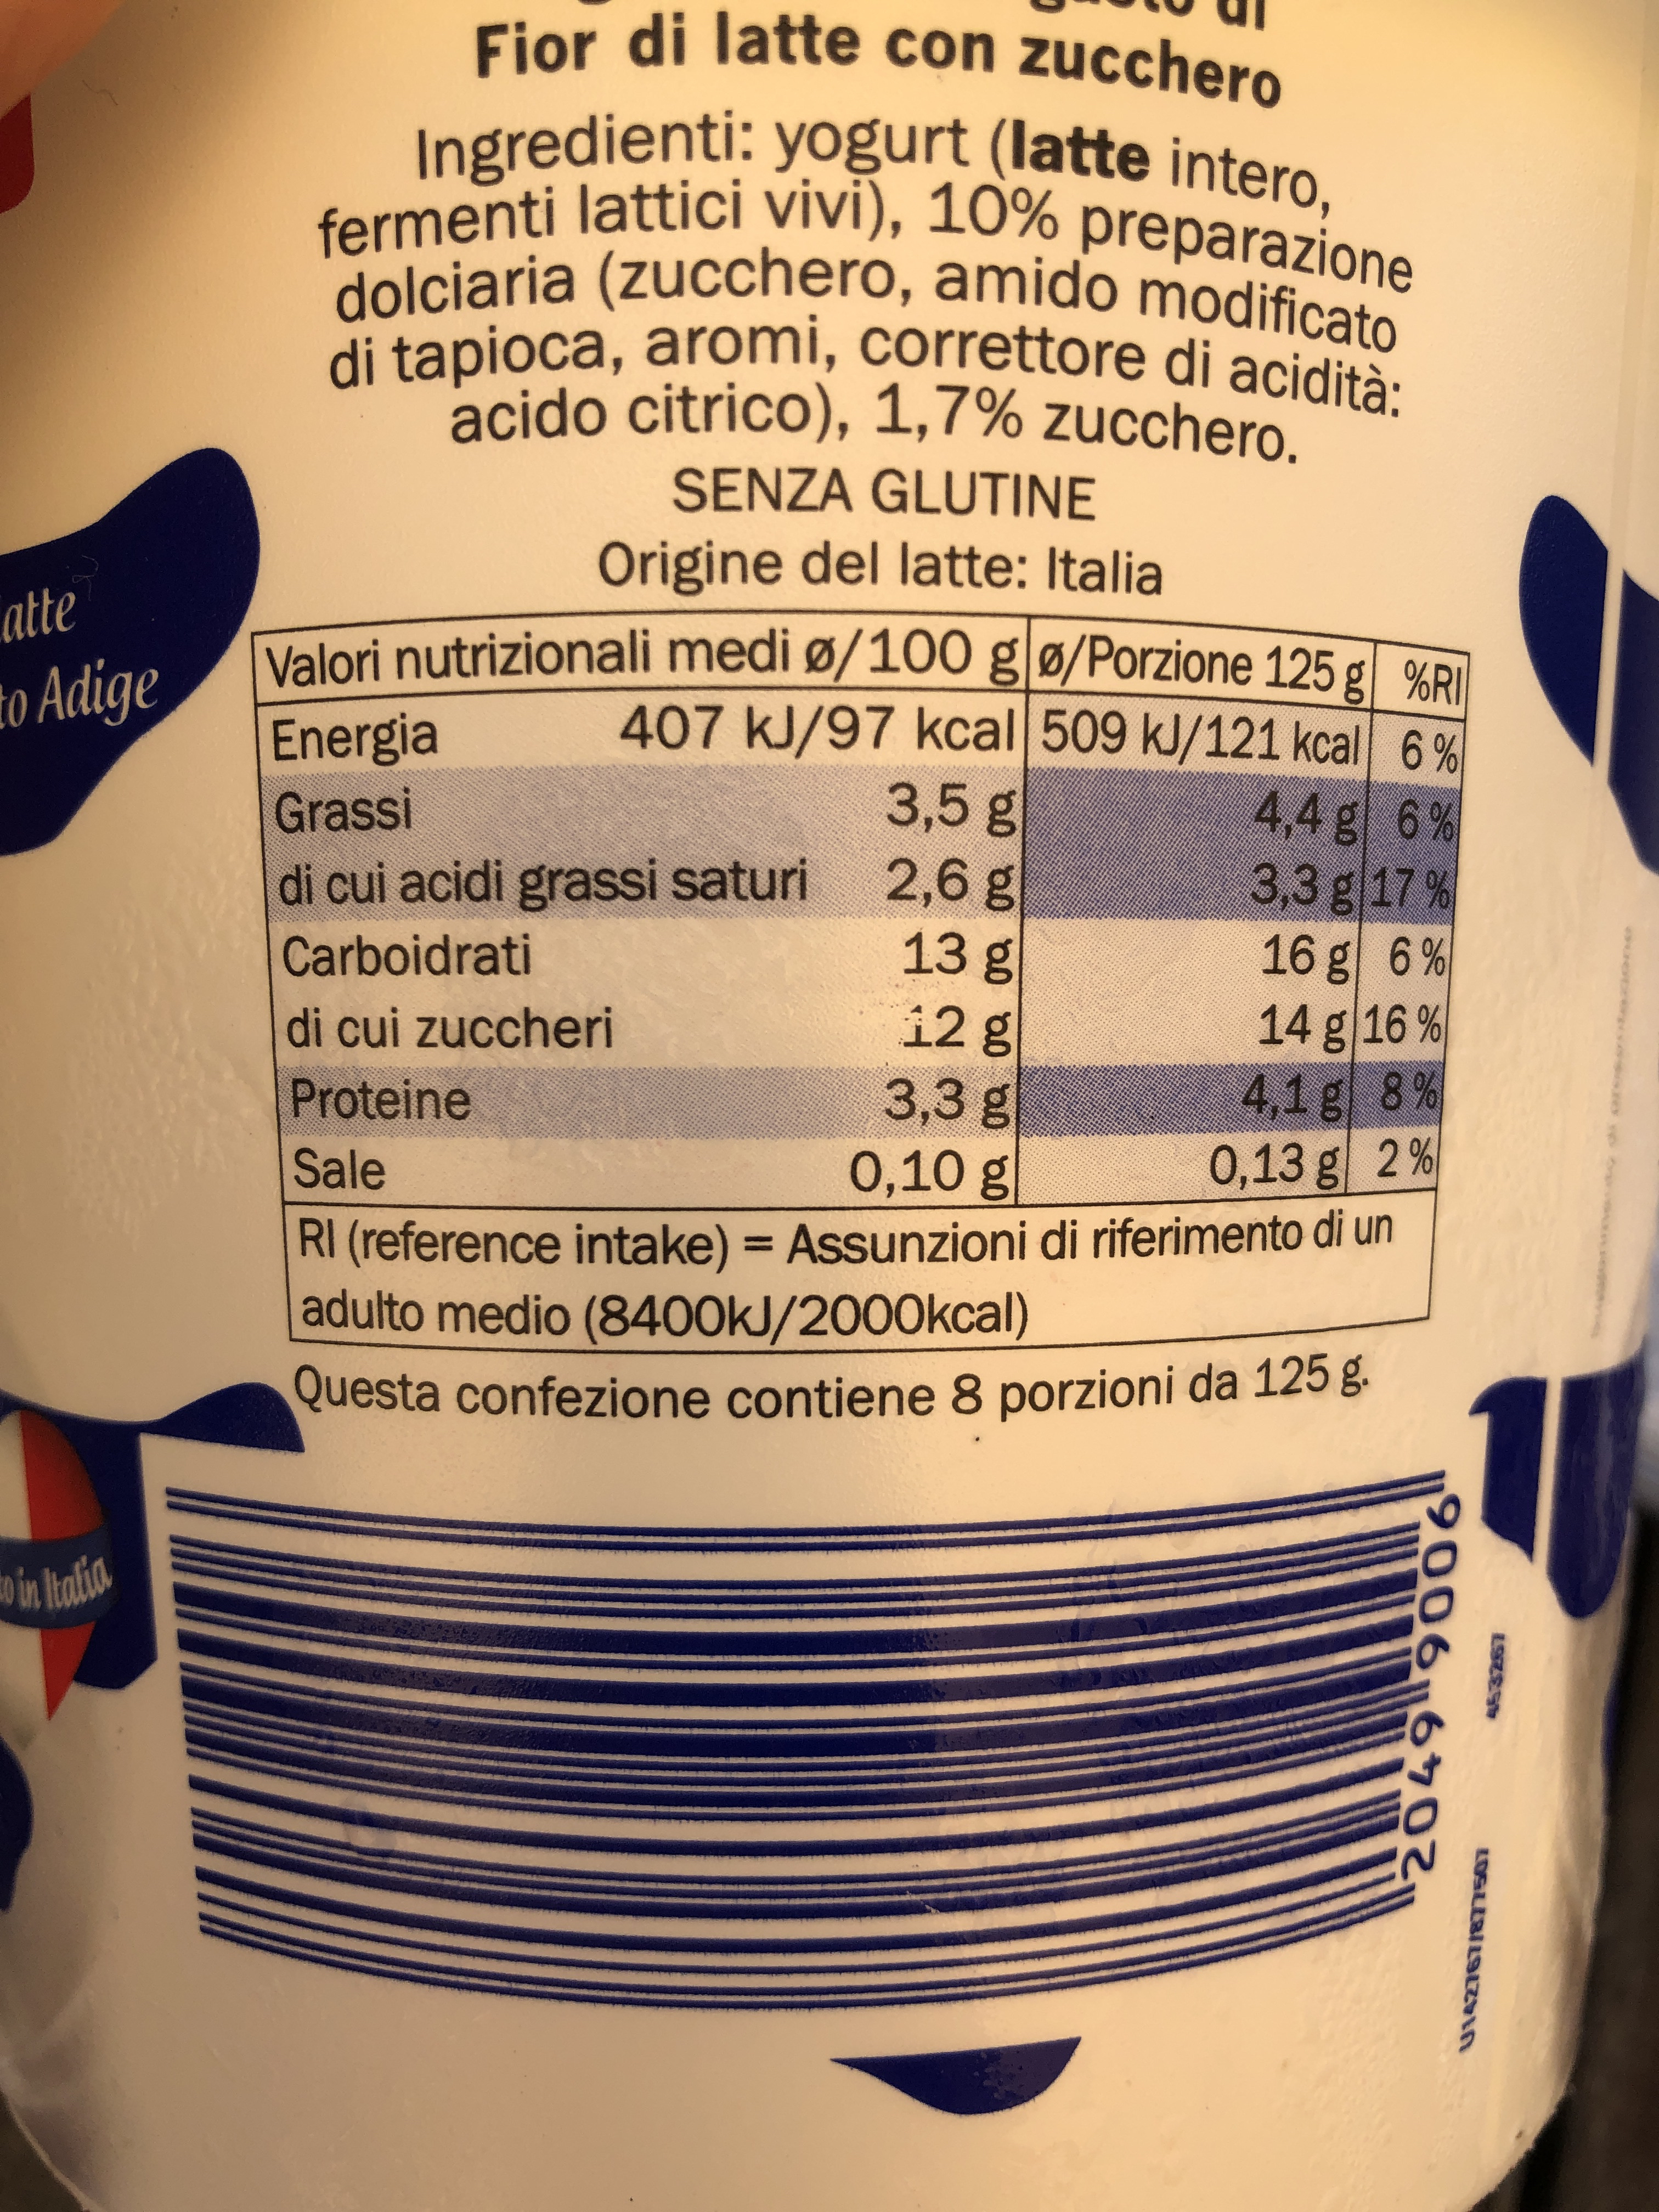column: (251, 636, 1012, 1198), (1037, 625, 1354, 1191), (1370, 644, 1467, 1184)
table: (239, 615, 1480, 1221)
